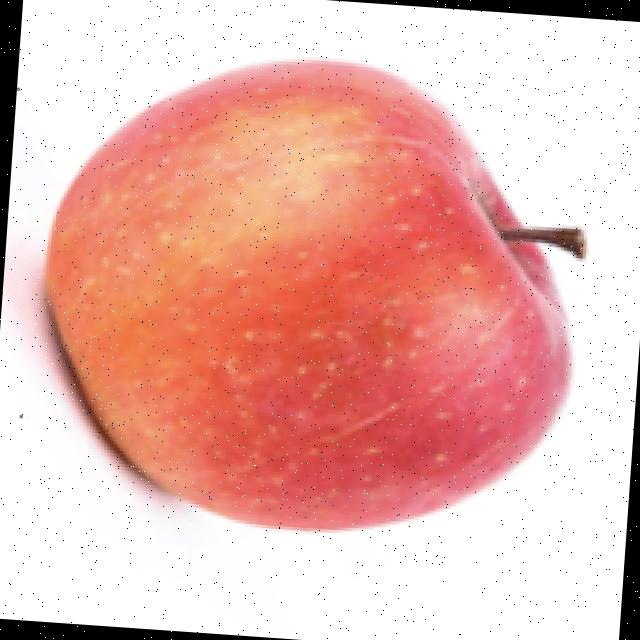apple: (6, 53, 592, 535)
